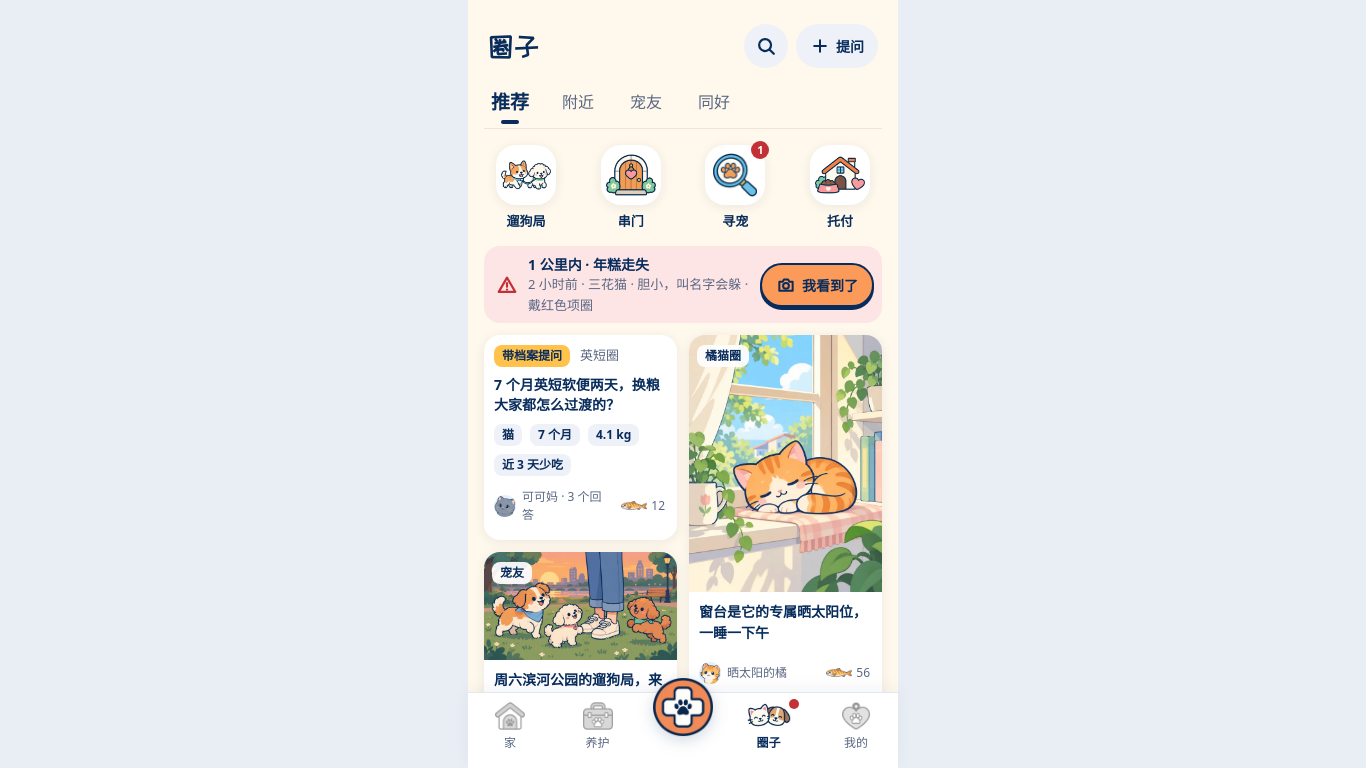
it: 圈子 › 走失互助：我看到了 → 线索发给失主 +5
Click the button "我看到了": coordinates (817, 284) [760, 262, 874, 306]
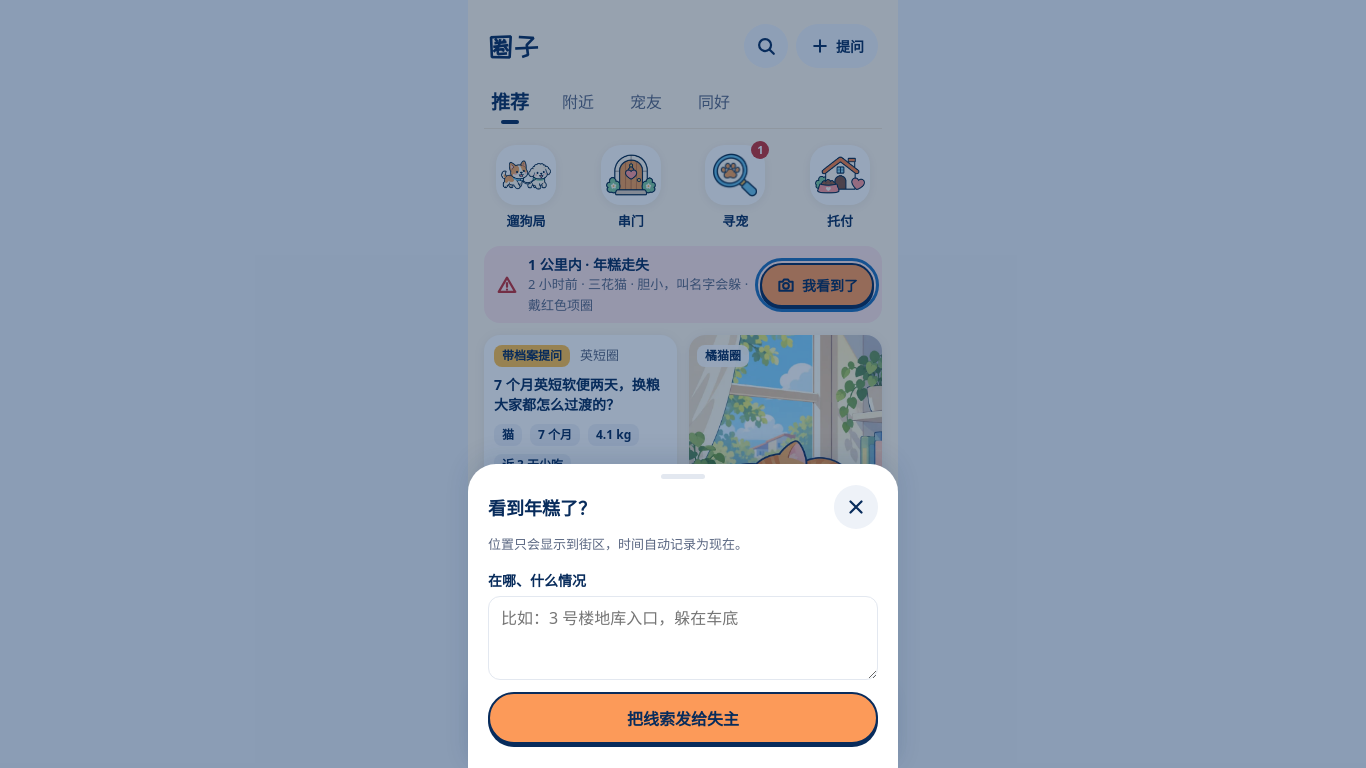
In the text box labelled "在哪、什么情况": coordinates (683, 638) [488, 596, 878, 680], type "3 号楼地库入口"
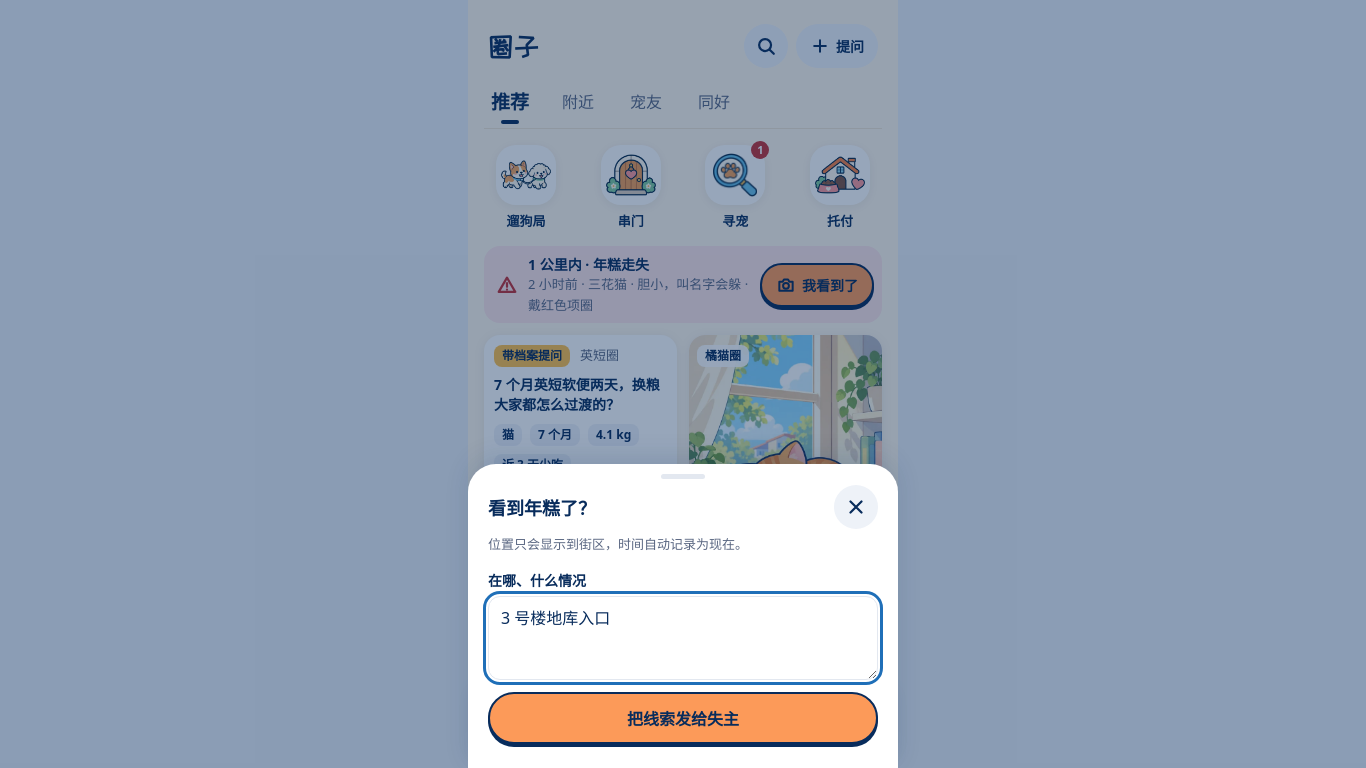
Click the button "把线索发给失主": coordinates (683, 718) [488, 692, 878, 744]
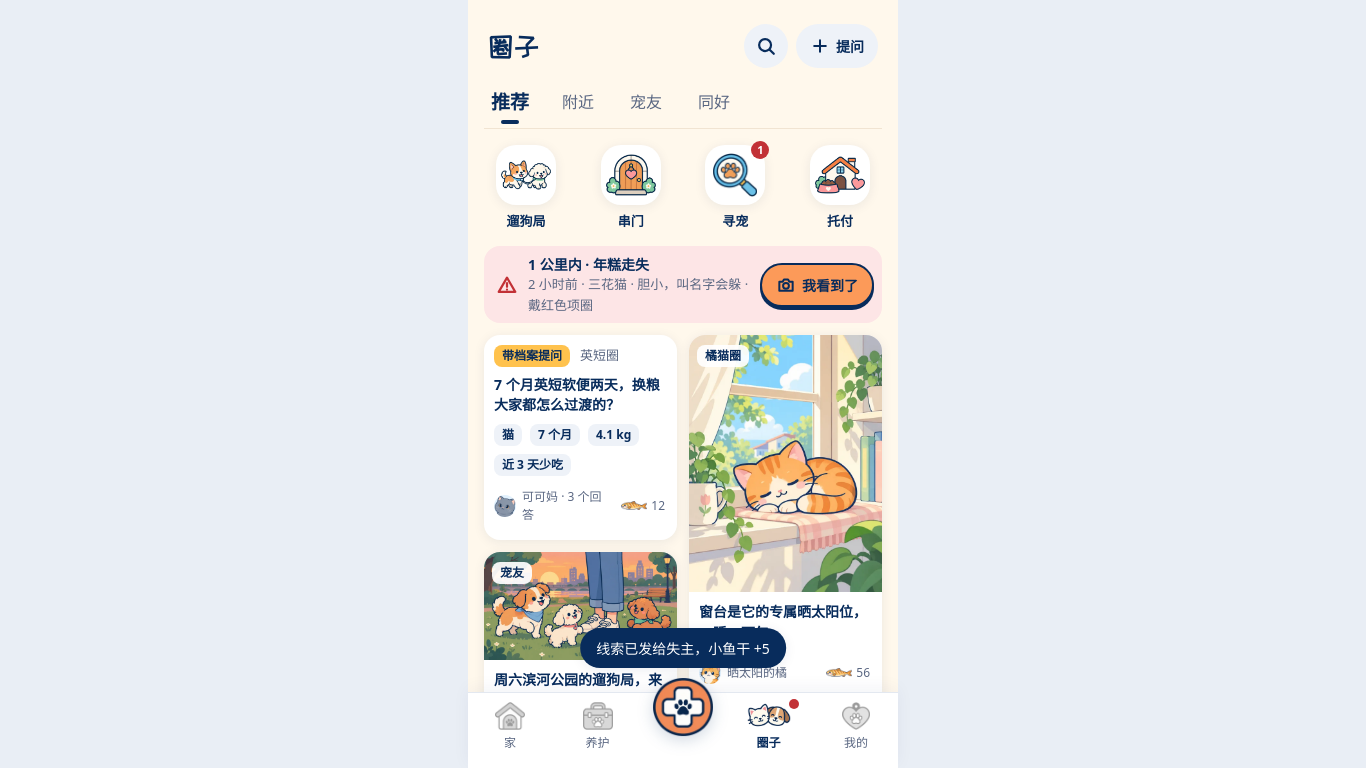
Expected: the message reads "线索已发给失主，小鱼干 +5", [596, 639, 770, 658]
